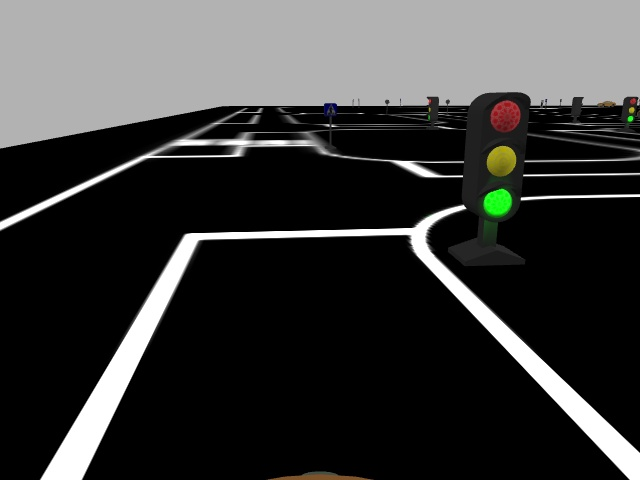green_light: (459, 90, 532, 218)
